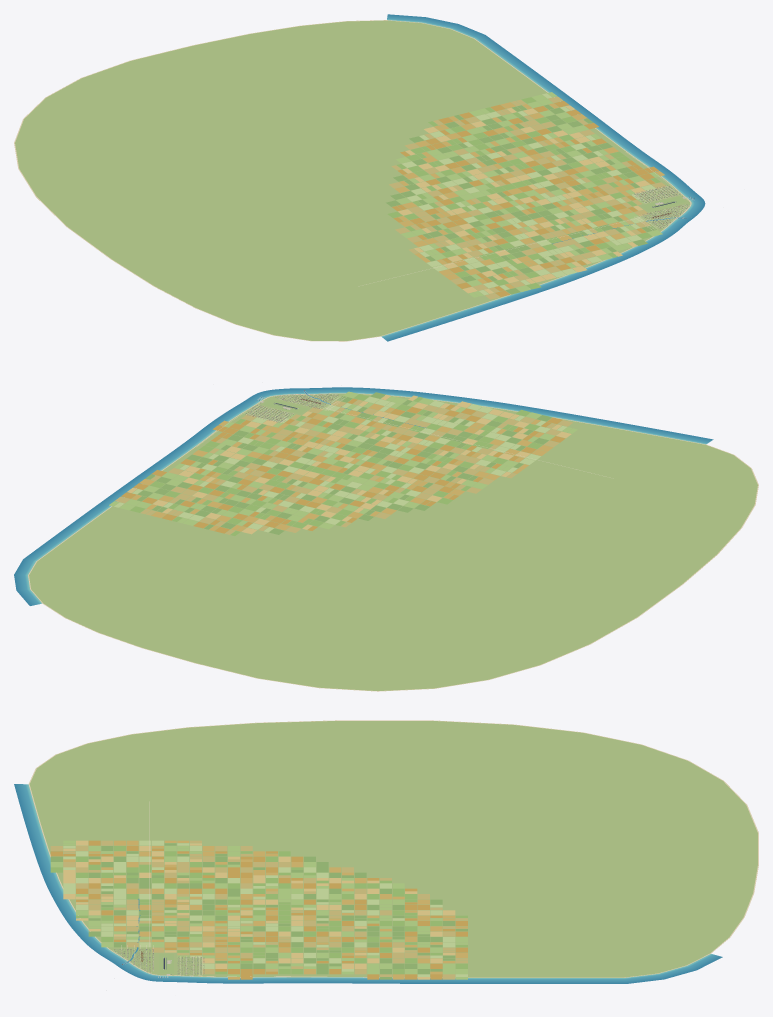
Rendered from land.glb.
3 views of the same model, one above another, from view 1: azimuth 30°, elevation 25°; view 2: azimuth 150°, elevation 25°; view 3: azimuth 270°, elevation 25° (orthographic). The views are drawn at different scales.
Visible parts, largest first — view 1: decal-land, decal-fields, decal-lake-shore, decal-beach, decal-roads, buildings; view 2: decal-land, decal-fields, decal-lake-shore, decal-beach, decal-roads, buildings; view 3: decal-land, decal-fields, decal-lake-shore, decal-beach, buildings.
Boxes of the visible parts, box(x1,y1,x2,y2) form: decal-land: box(15, 20, 690, 340); decal-fields: box(386, 92, 666, 299); decal-lake-shore: box(381, 14, 705, 341); decal-beach: box(14, 20, 691, 341); decal-roads: box(358, 152, 690, 286); buildings: box(634, 186, 694, 228); decal-land: box(29, 393, 757, 690); decal-fields: box(109, 391, 577, 535); decal-lake-shore: box(14, 387, 713, 605); decal-beach: box(28, 393, 758, 691); decal-roads: box(197, 394, 613, 478); buildings: box(246, 390, 338, 422); decal-land: box(29, 721, 757, 977); decal-fields: box(50, 840, 467, 979); decal-lake-shore: box(14, 784, 722, 983); decal-beach: box(28, 720, 758, 977); buildings: box(114, 949, 204, 977).
Size of the model in its own units: 69616 by 143 by 77679.
